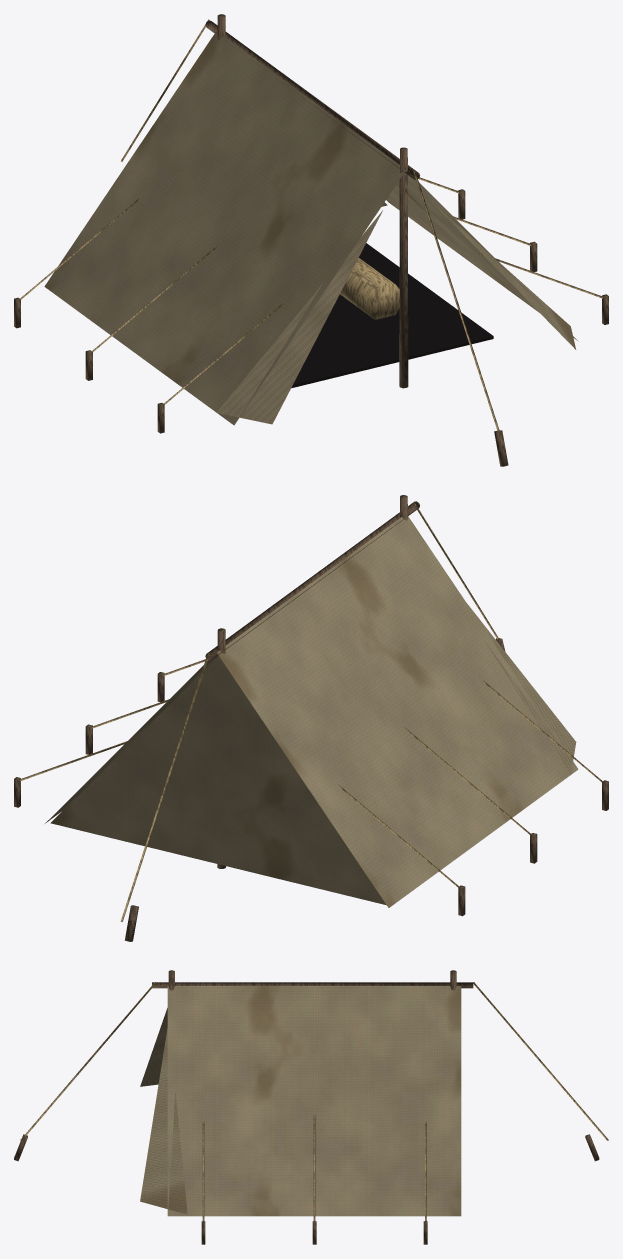
File: bandit_tent.glb
3 renders of one model, top to bottom at view 1: azimuth 30°, elevation 25°; view 2: azimuth 150°, elevation 25°; view 3: azimuth 270°, elevation 25°, orthographic. The views are drawn at different scales.
Parts seen in each view (by area): view 1: TentCanvas, TentFloor, TentPoles, TentRopes; view 2: TentCanvas, TentPoles, TentRopes; view 3: TentCanvas, TentPoles, TentRopes.
Boxes of the visible parts, bbox=[...] form: TentCanvas: bbox=[44, 31, 578, 425]; TentFloor: bbox=[291, 243, 493, 388]; TentPoles: bbox=[14, 14, 608, 466]; TentRopes: bbox=[20, 19, 602, 438]; TentCanvas: bbox=[45, 516, 578, 907]; TentPoles: bbox=[14, 495, 608, 941]; TentRopes: bbox=[20, 502, 602, 921]; TentCanvas: bbox=[140, 986, 461, 1216]; TentPoles: bbox=[14, 970, 599, 1244]; TentRopes: bbox=[20, 982, 608, 1221].
Size of what is drawn, in the model's own units: 5.05 by 2.62 by 7.5.
4 materials, 3 textured.
